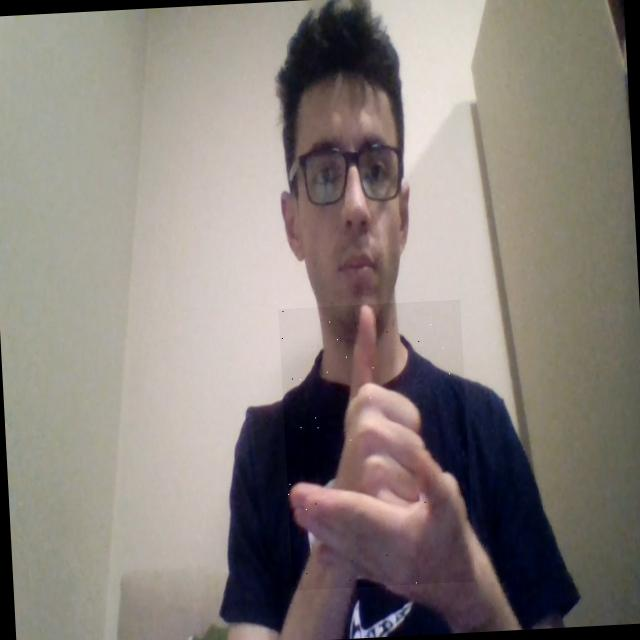help: (278, 300, 475, 590)
